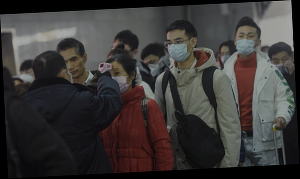with_mask: (166, 36, 191, 64), (108, 65, 130, 96), (235, 31, 259, 57), (271, 55, 291, 77), (143, 58, 161, 78), (218, 48, 233, 66), (19, 69, 35, 85)
without_mask: (63, 55, 84, 81)
